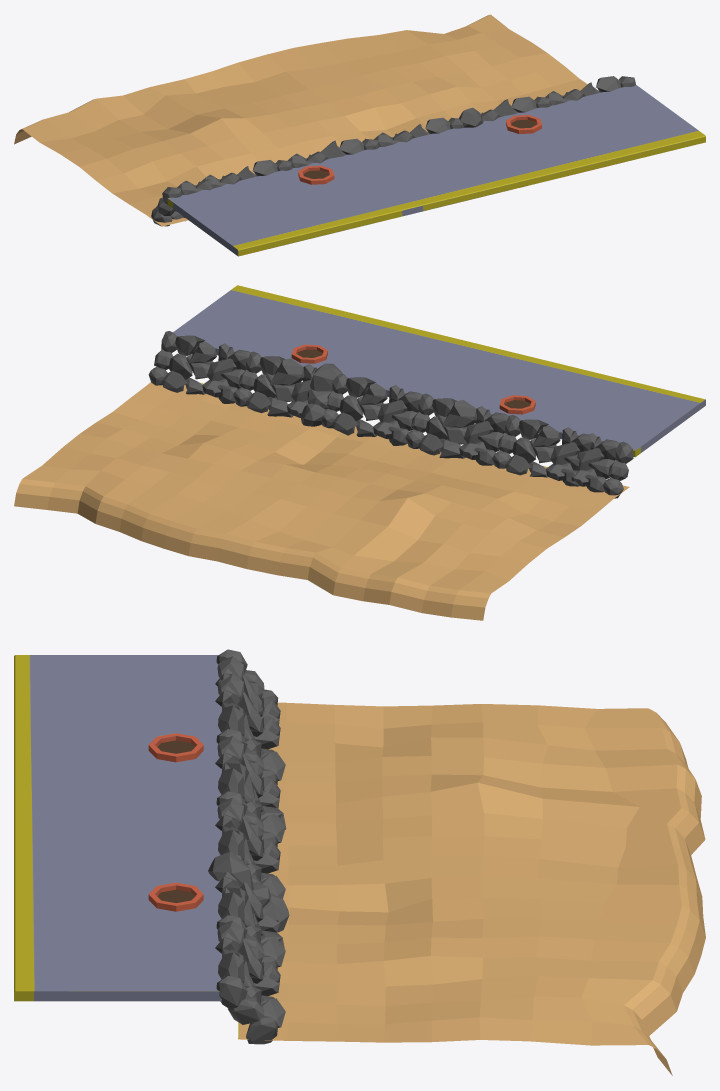
Rendered from plage.fbx.
3 renders of one model, top to bottom at view 1: azimuth 30°, elevation 25°; view 2: azimuth 150°, elevation 25°; view 3: azimuth 270°, elevation 25°, orthographic. The views are drawn at different scales.
Visible parts, largest first — view 1: plage; view 2: plage; view 3: plage.
Part boxes in pixels (x1=…): plage: x1=14, y1=14, x2=705, y2=256; plage: x1=14, y1=285, x2=705, y2=620; plage: x1=14, y1=649, x2=705, y2=1075.
Bounding box in the file's own units: 14943 × 2203 × 12939.
Materials: 1 (1 with a texture image).
